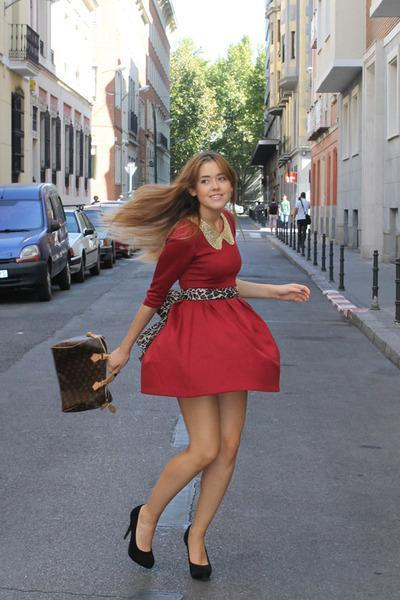bag: (51, 343, 112, 412)
dress: (139, 216, 279, 410)
shoe: (124, 505, 211, 581)
